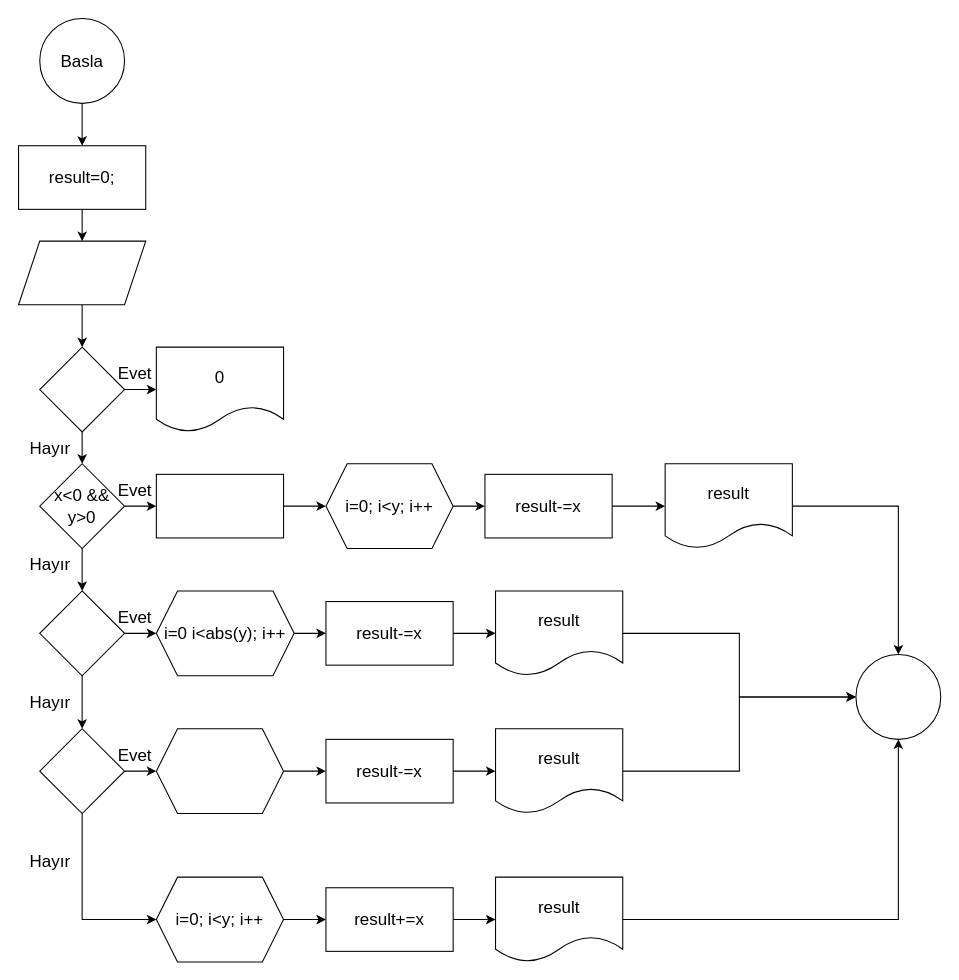
This 959x980 diagram has some shape labels left out. Here are the shapes that lost their labels. From the top down, the centre of each, then its label:
At point 81,272: "x, y".
At point 82,389: "x=0".
At point 219,505: "x = abs(x);".
At point 82,633: "x>0 && y<0".
At point 898,696: "Bitir".
At point 82,771: "x<0 && y<0".
At point 219,771: "i=0; i<abs(y); i++".
